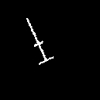double_crochet: (27, 18, 52, 64)
